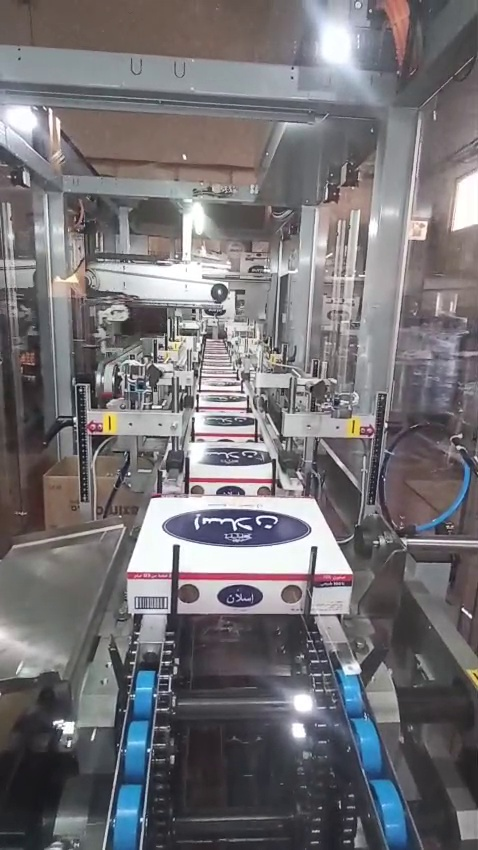savon: (8, 0, 248, 56), (68, 118, 192, 151), (38, 457, 84, 534), (0, 696, 22, 746), (95, 459, 116, 496), (345, 414, 362, 442), (101, 411, 118, 439), (461, 667, 478, 690), (66, 266, 82, 288), (142, 159, 170, 171), (0, 474, 14, 496), (224, 146, 248, 158)
